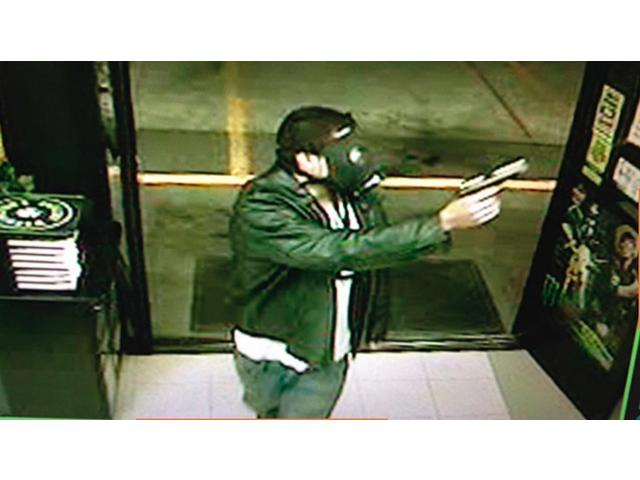pistol: (453, 154, 532, 229)
